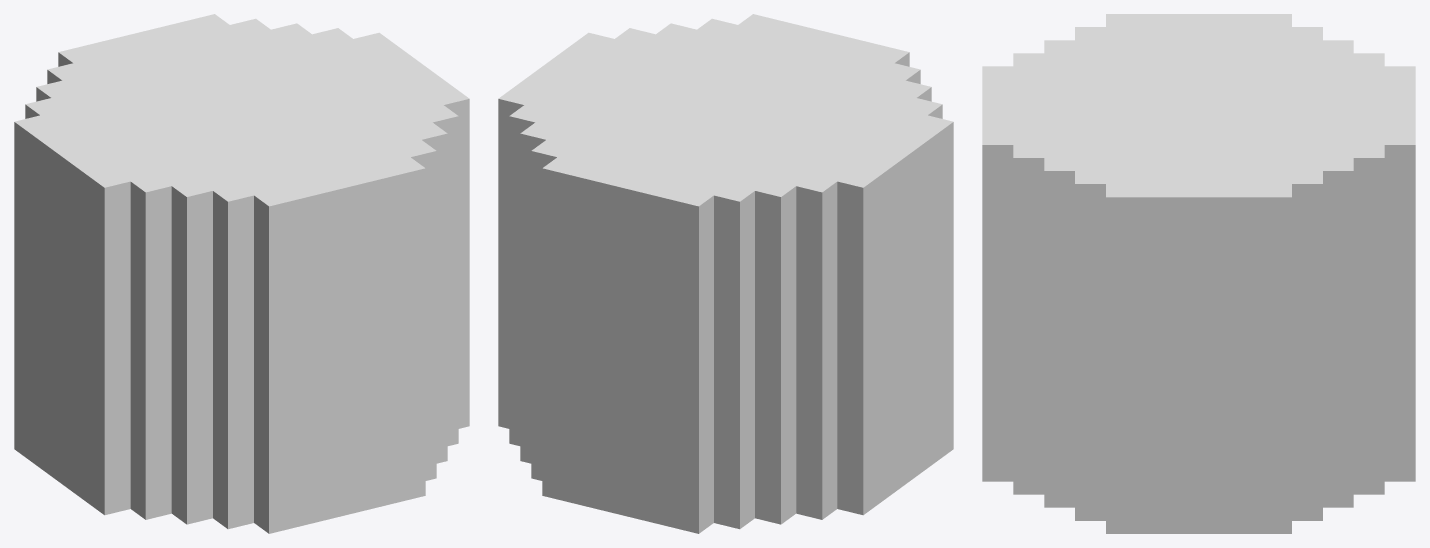
File: goodnight-moon-5-scene-lamp-bulb.obj
3 views of the same model, side by side, from view 1: azimuth 30°, elevation 25°; view 2: azimuth 150°, elevation 25°; view 3: azimuth 270°, elevation 25° (orthographic). The views are drawn at different scales.
Parts seen in each view (by area): view 1: scene-lamp-bulb; view 2: scene-lamp-bulb; view 3: scene-lamp-bulb.
Part boxes in pixels (x1,y1,x2,y2): scene-lamp-bulb: [14, 14, 469, 533]; scene-lamp-bulb: [498, 14, 953, 533]; scene-lamp-bulb: [982, 14, 1415, 533].
Bounding box in the file's own units: 1.4 × 1.2 × 1.4.
1 material, 1 textured.
